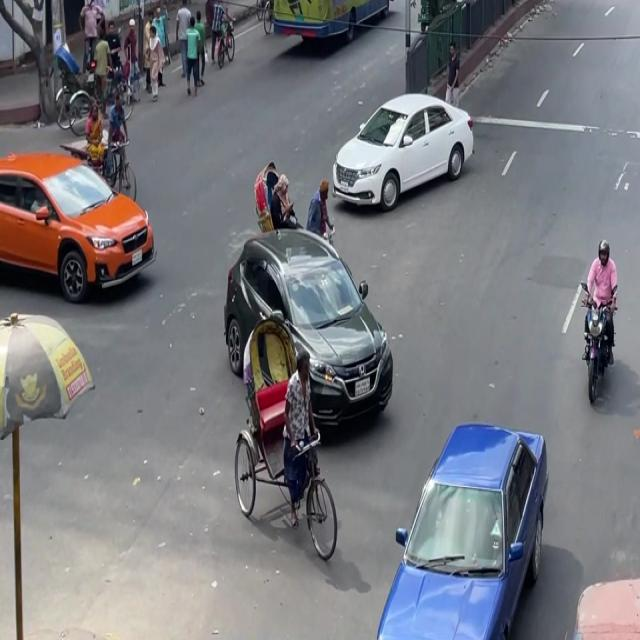bicycle: (216, 20, 238, 68)
bus: (266, 0, 414, 42)
car: (376, 401, 562, 639), (223, 220, 400, 444), (0, 134, 161, 307), (323, 73, 480, 222)
motorbike: (570, 228, 632, 416), (631, 245, 640, 453)
